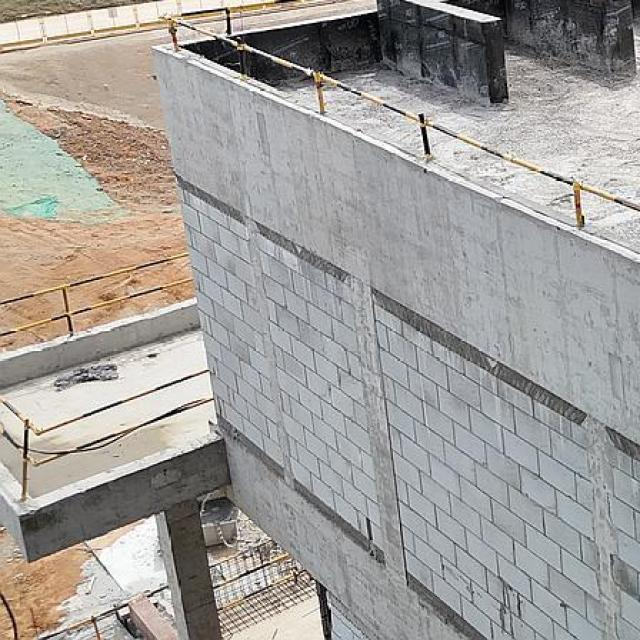Guardrail: (160, 0, 640, 229), (0, 367, 217, 502), (0, 251, 196, 338), (213, 553, 296, 613), (36, 601, 131, 640)
